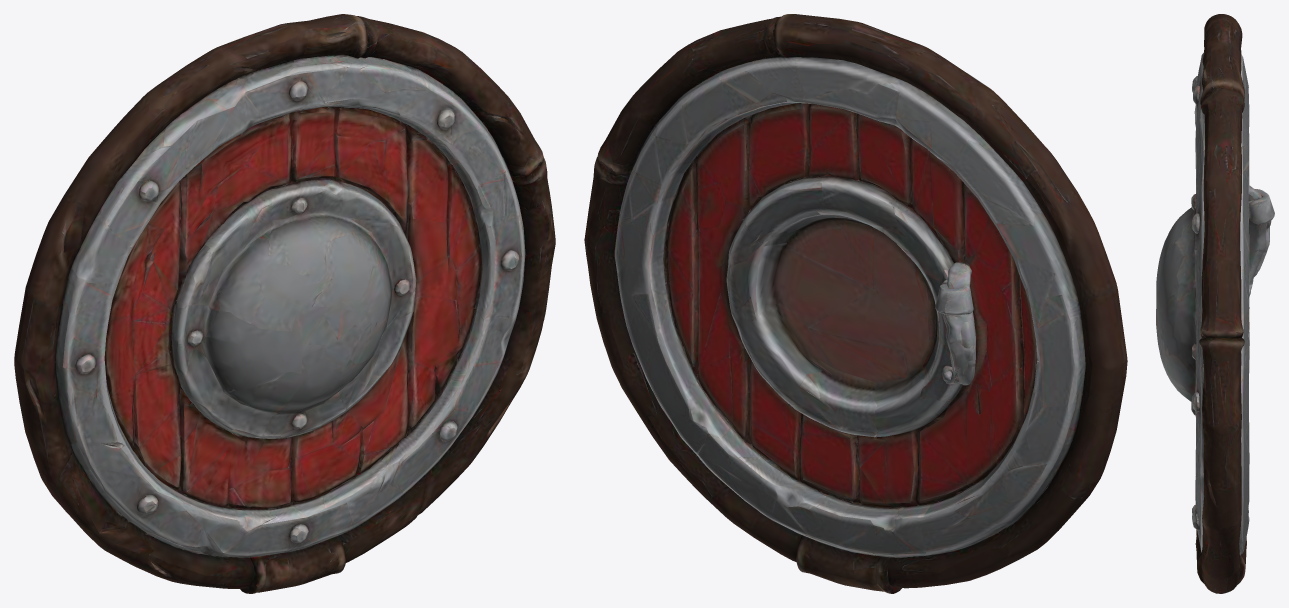
The model's file is buckler.glb.
3 renders of one model, left to right at view 1: azimuth 30°, elevation 25°; view 2: azimuth 150°, elevation 25°; view 3: azimuth 270°, elevation 25°, orthographic. The views are drawn at different scales.
Parts seen in each view (by area): view 1: Mesh_0; view 2: Mesh_0; view 3: Mesh_0.
Boxes of the visible parts, x1,y1,x2,y2 form: Mesh_0: (14, 14, 555, 593); Mesh_0: (584, 14, 1127, 593); Mesh_0: (1156, 14, 1274, 593).
Size of the model in its own units: 0.4 by 0.3985 by 0.081.
1 material, 1 textured.
